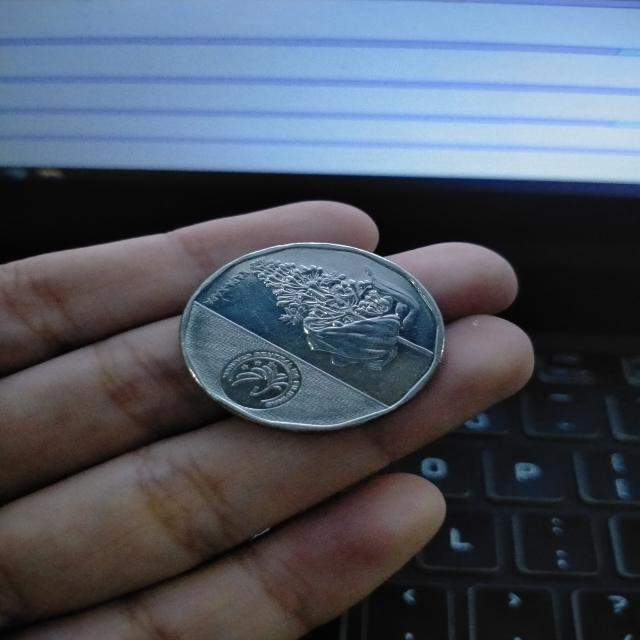10_New_Back: (208, 253, 412, 413)
